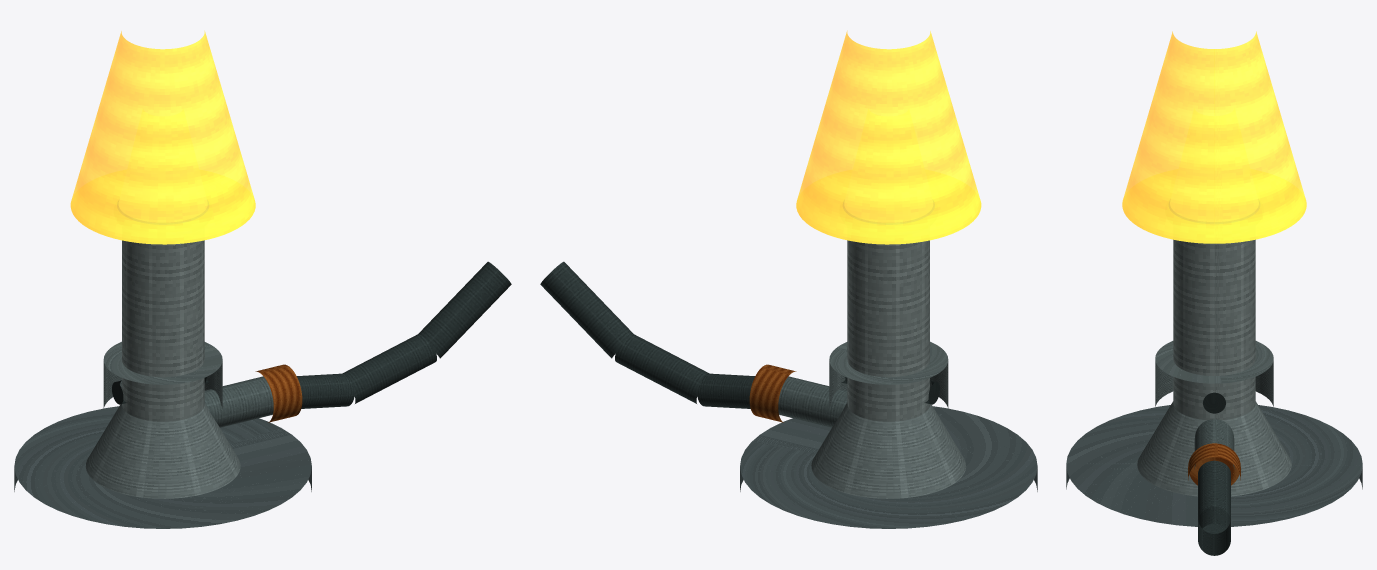
The model's file is alat-19.glb.
3 renders of one model, left to right at view 1: azimuth 30°, elevation 25°; view 2: azimuth 150°, elevation 25°; view 3: azimuth 270°, elevation 25°, orthographic.
Visible parts, largest first — view 1: flameOuter-9, cylinder-0, cylinder-2, cone-1, cylinder-13, cylinder-12, airCollar-4, cylinder-7, cylinder-11, gasValve-8; view 2: flameOuter-9, cylinder-0, cylinder-2, cone-1, cylinder-13, cylinder-12, airCollar-4, cylinder-7, cylinder-11, gasValve-8; view 3: flameOuter-9, cylinder-0, cylinder-2, cone-1, airCollar-4, cylinder-11, gasValve-8, cylinder-7, cylinder-13, cylinder-12, airHole-6.
Part boxes in pixels (x1,y1,x2,y2): flameOuter-9: (70, 30, 255, 244); cylinder-0: (14, 406, 311, 528); cylinder-2: (122, 240, 204, 421); cone-1: (85, 403, 240, 498); cylinder-13: (418, 261, 511, 358); cylinder-12: (342, 334, 436, 403); airCollar-4: (103, 341, 222, 409); cylinder-7: (204, 376, 273, 427); cylinder-11: (296, 373, 354, 408); gasValve-8: (255, 364, 302, 422); flameOuter-9: (796, 30, 981, 244); cylinder-0: (740, 406, 1037, 528); cylinder-2: (847, 240, 929, 421); cone-1: (811, 403, 966, 498); cylinder-13: (540, 261, 633, 358); cylinder-12: (615, 334, 709, 403); airCollar-4: (829, 341, 948, 409); cylinder-7: (778, 376, 847, 427); cylinder-11: (697, 373, 755, 408); gasValve-8: (749, 364, 796, 422); flameOuter-9: (1122, 31, 1306, 243); cylinder-0: (1066, 405, 1362, 526); cylinder-2: (1173, 239, 1255, 419); cone-1: (1137, 401, 1291, 496); airCollar-4: (1155, 341, 1273, 406); cylinder-11: (1198, 460, 1230, 519); gasValve-8: (1188, 443, 1240, 485); cylinder-7: (1194, 419, 1234, 468); cylinder-13: (1198, 520, 1230, 555); cylinder-12: (1198, 507, 1230, 528); airHole-6: (1203, 392, 1225, 413).
Bounding box in the file's own units: 3.31 × 3.08 × 1.8.
Materials: 14 (14 with a texture image).
